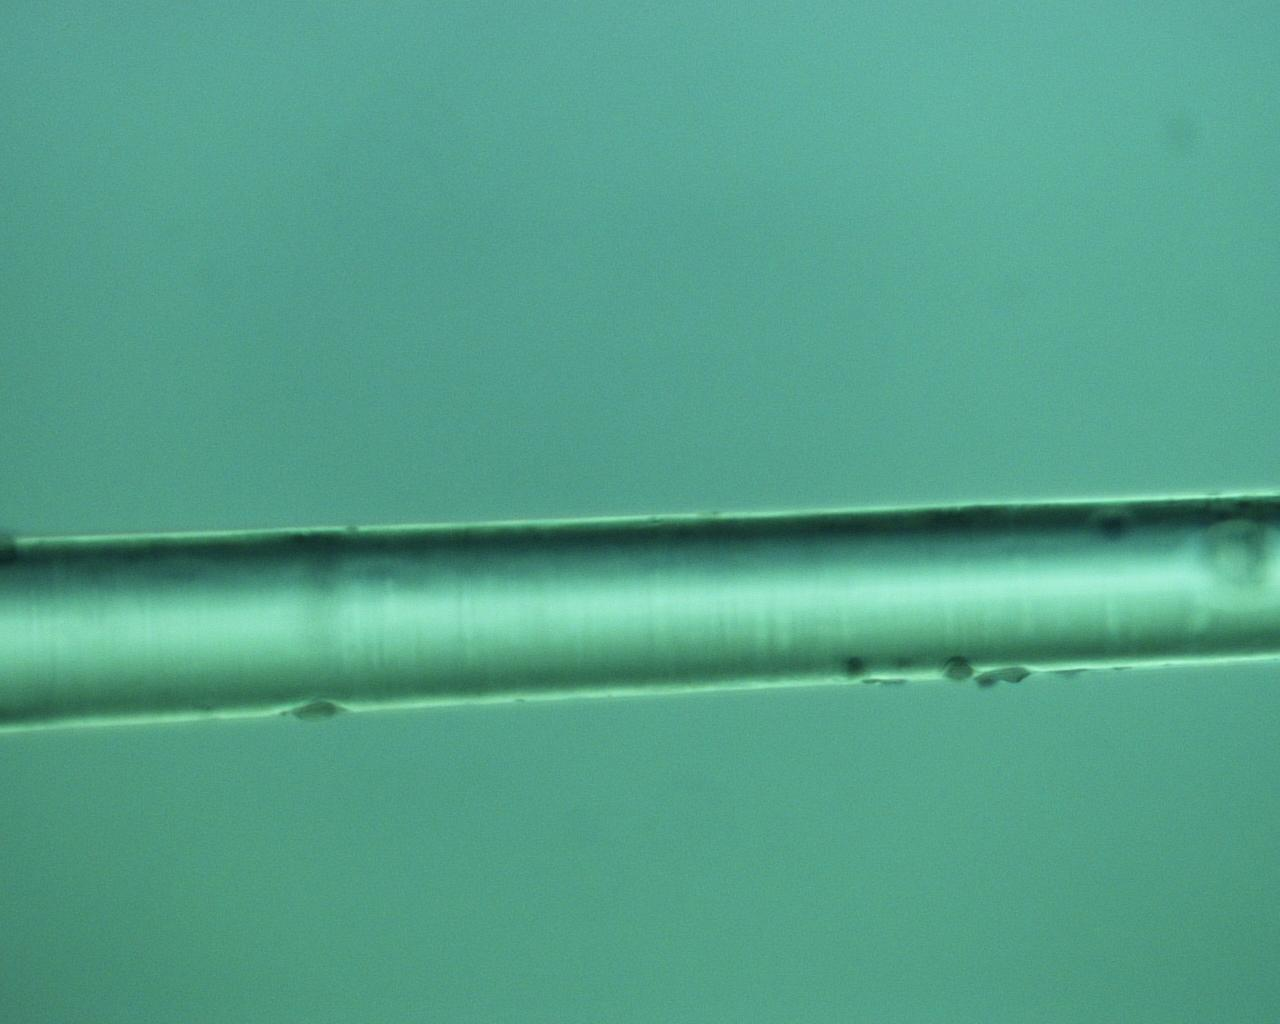fiber: (0, 489, 1280, 732)
